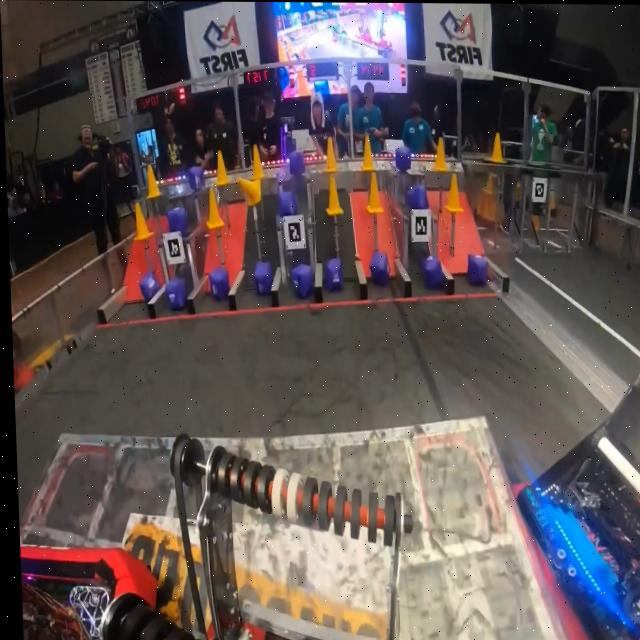robot: (499, 348, 640, 640), (16, 535, 154, 640)
